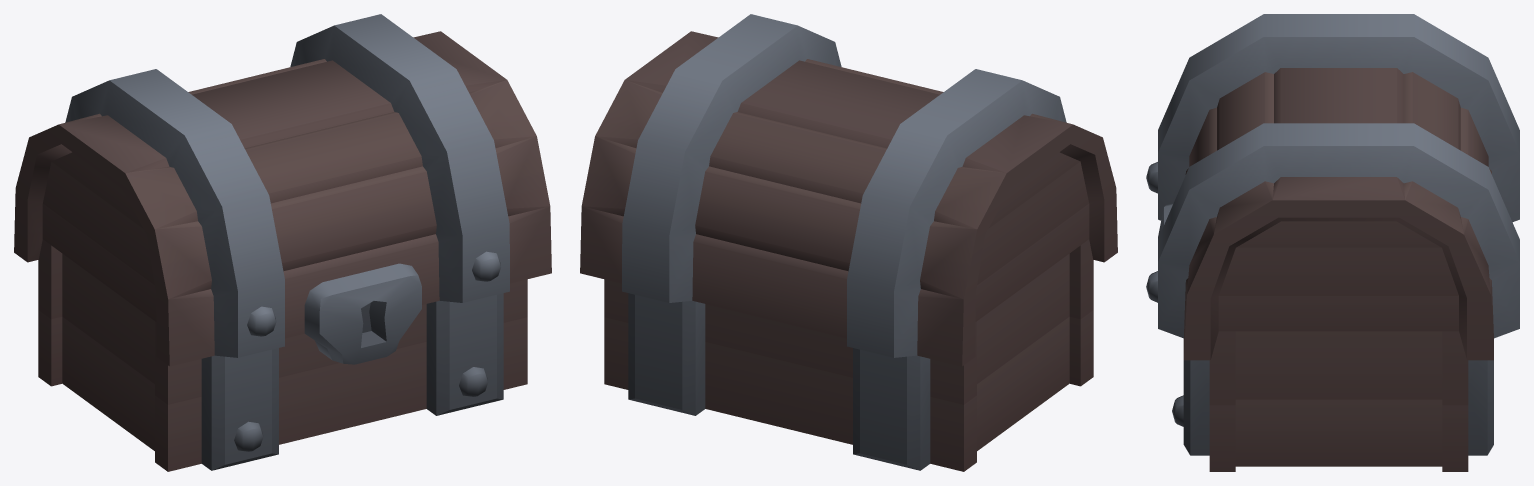
The model's file is chest.glb.
3 renders of one model, left to right at view 1: azimuth 30°, elevation 25°; view 2: azimuth 150°, elevation 25°; view 3: azimuth 270°, elevation 25°, orthographic.
Visible parts, largest first — view 1: chest_lid, chest; view 2: chest_lid, chest; view 3: chest_lid, chest.
Part boxes in pixels (x1,y1,x2,y2): chest_lid: (14, 14, 551, 366); chest: (38, 239, 527, 471); chest_lid: (580, 14, 1117, 366); chest: (604, 239, 1093, 471); chest_lid: (1146, 14, 1519, 360); chest: (1172, 331, 1493, 471).
Bounding box in the file's own units: 1.7 × 1.3 × 1.45.
1 material, 1 textured.
